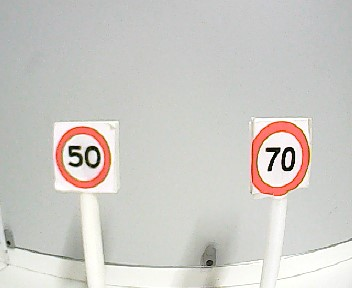50-bord: (56, 127, 112, 188)
70-bord: (252, 119, 310, 195)
